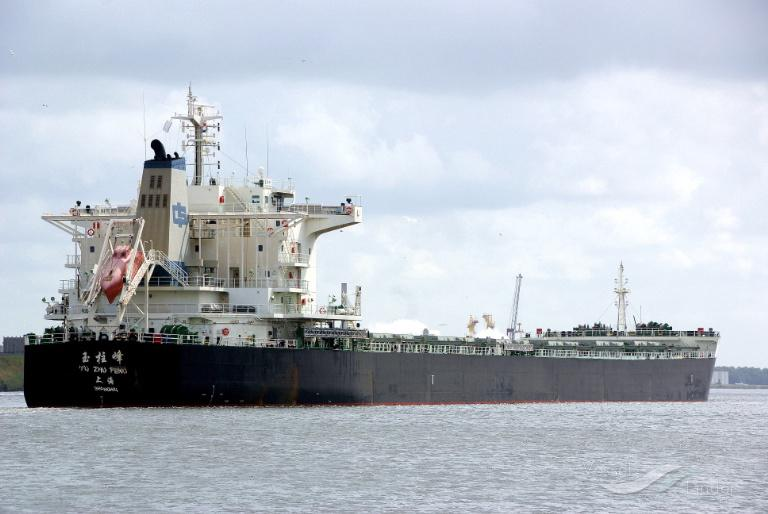OCR: (79, 364, 127, 394)
